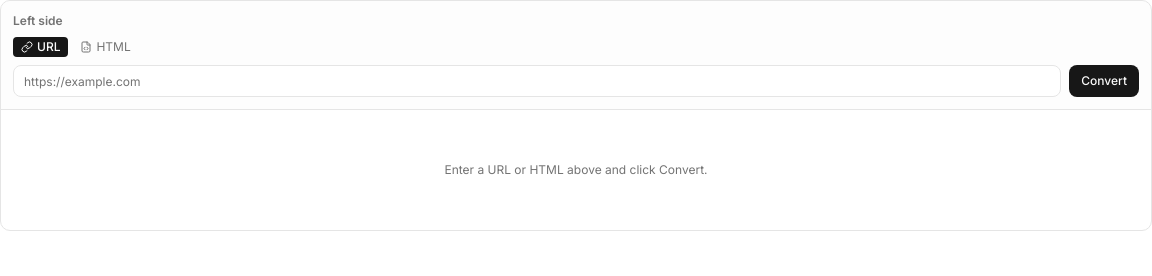
Test: PageSidePanel › switches to HTML textarea when the HTML tab is clicked
Click the button "HTML".
click(106, 47)  # box [72, 37, 139, 57]
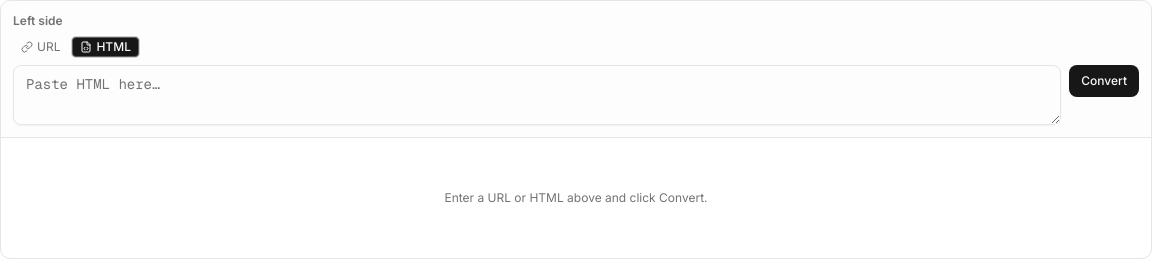
Check: the field with placeholder "https://example.com" is not shown
Check: the text box with placeholder "Paste HTML here…" is shown, box [13, 65, 1061, 125]
